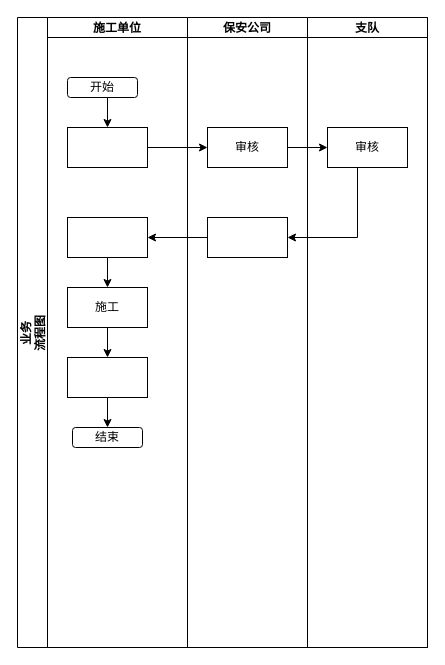
Some shapes in this 445 by 665 pixel diagram are drawn without their labels. Each missing label, with the box of its shape:
上传施工进度: (66, 356, 148, 398)
发起报修单: (66, 126, 148, 168)
接单、指派负责人: (66, 216, 148, 258)
派单: (206, 216, 288, 258)
